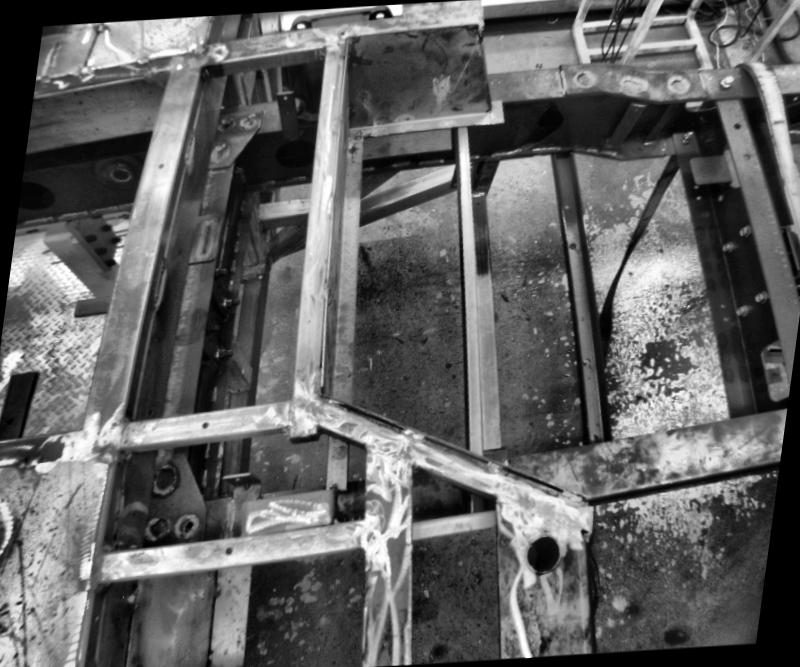bolt: (718, 74, 734, 90), (750, 288, 766, 304), (680, 128, 696, 142), (719, 241, 735, 254), (733, 304, 745, 316), (738, 226, 749, 238)
bracket: (678, 145, 735, 201), (748, 336, 794, 404), (0, 365, 40, 439), (70, 290, 116, 318)
hole: (522, 531, 564, 571), (19, 176, 58, 214), (108, 163, 136, 181), (6, 414, 20, 425), (220, 543, 233, 554), (583, 355, 592, 366), (590, 431, 600, 440), (157, 160, 166, 169), (201, 419, 210, 427), (184, 520, 193, 528), (568, 240, 577, 248), (733, 120, 742, 127), (564, 201, 572, 208), (476, 201, 478, 205)
